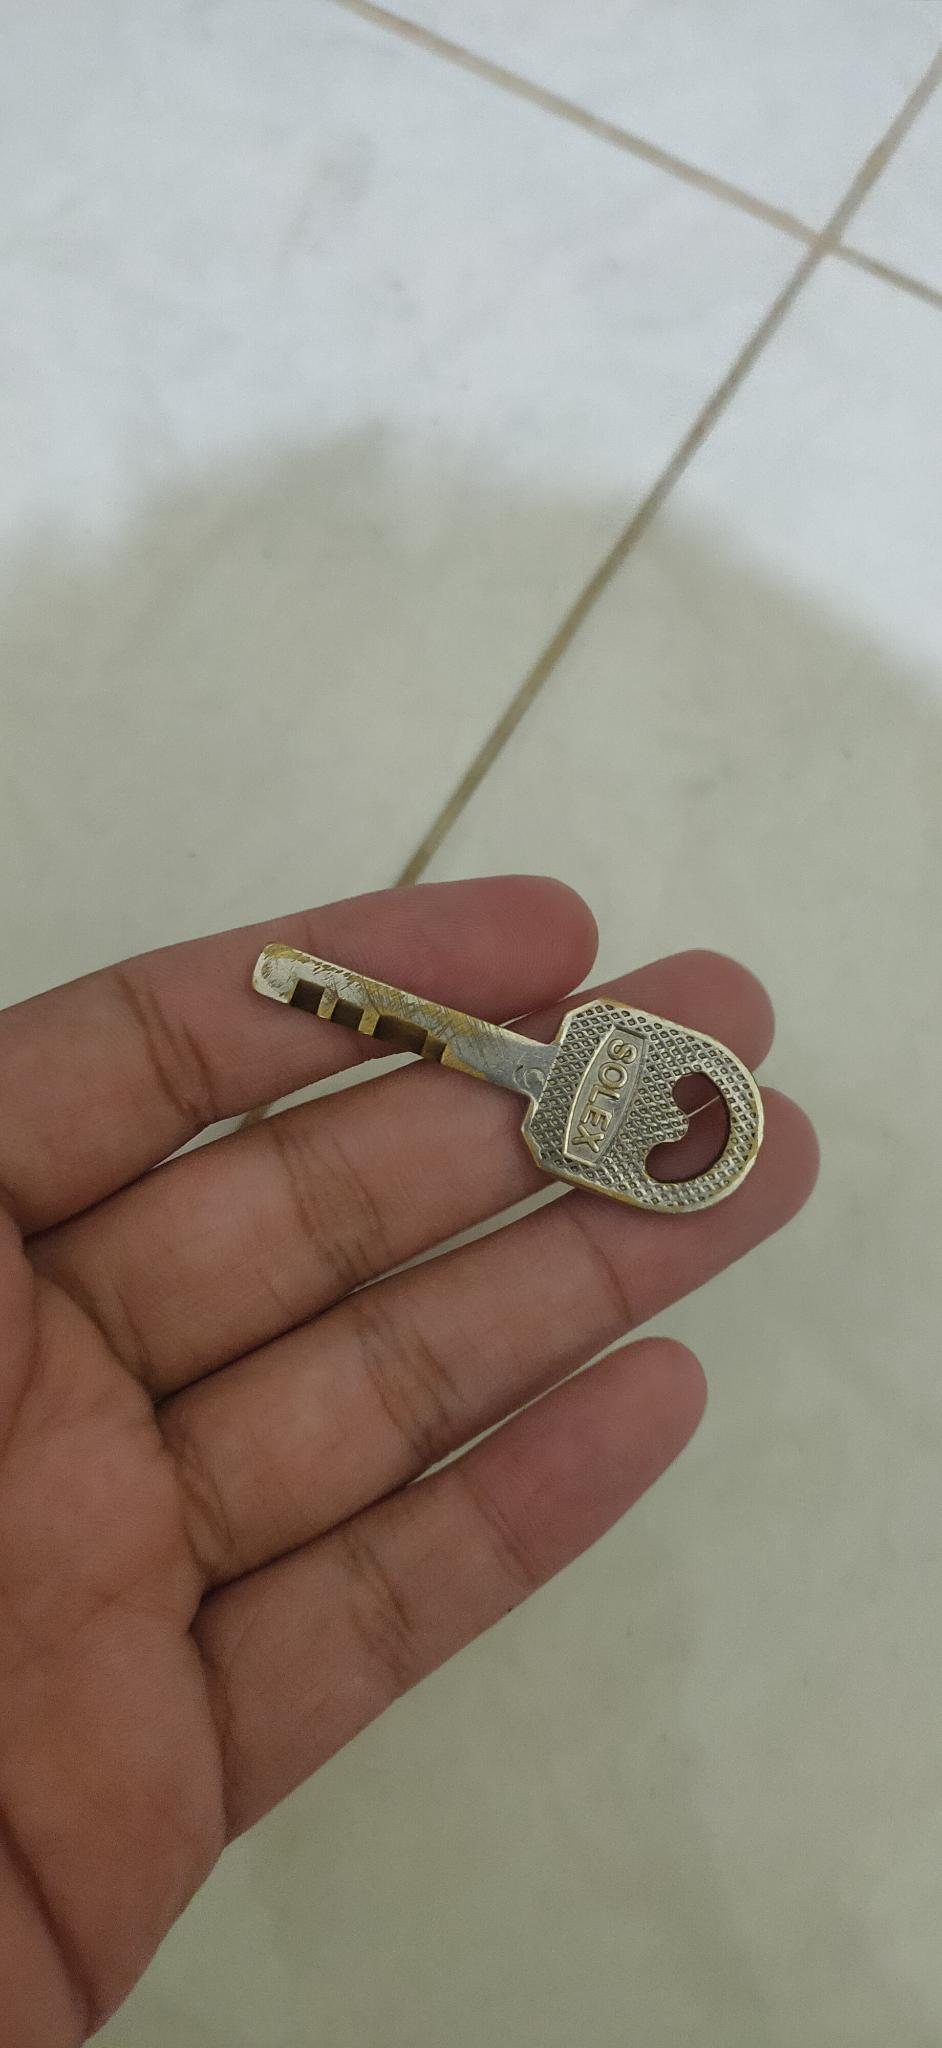keys: (232, 912, 778, 1239)
